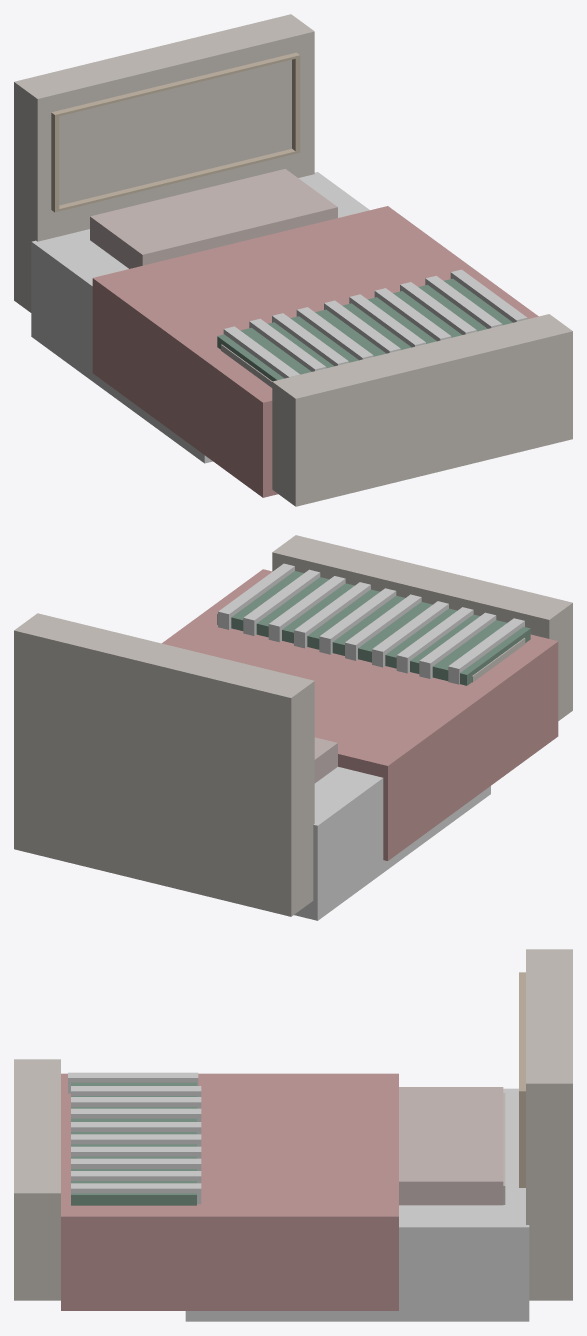
The model's file is Bed.glb.
3 renders of one model, top to bottom at view 1: azimuth 30°, elevation 25°; view 2: azimuth 150°, elevation 25°; view 3: azimuth 270°, elevation 25°, orthographic.
Parts seen in each view (by area): view 1: Mesh_Mesh_head_geo.001_lambert2SG.001; view 2: Mesh_Mesh_head_geo.001_lambert2SG.001; view 3: Mesh_Mesh_head_geo.001_lambert2SG.001.
Part boxes in pixels (x1,y1,x2,y2): Mesh_Mesh_head_geo.001_lambert2SG.001: (14, 14, 572, 506); Mesh_Mesh_head_geo.001_lambert2SG.001: (14, 535, 572, 920); Mesh_Mesh_head_geo.001_lambert2SG.001: (14, 949, 572, 1321).
Size of the model in its own units: 0.065 by 0.05 by 0.1074.
